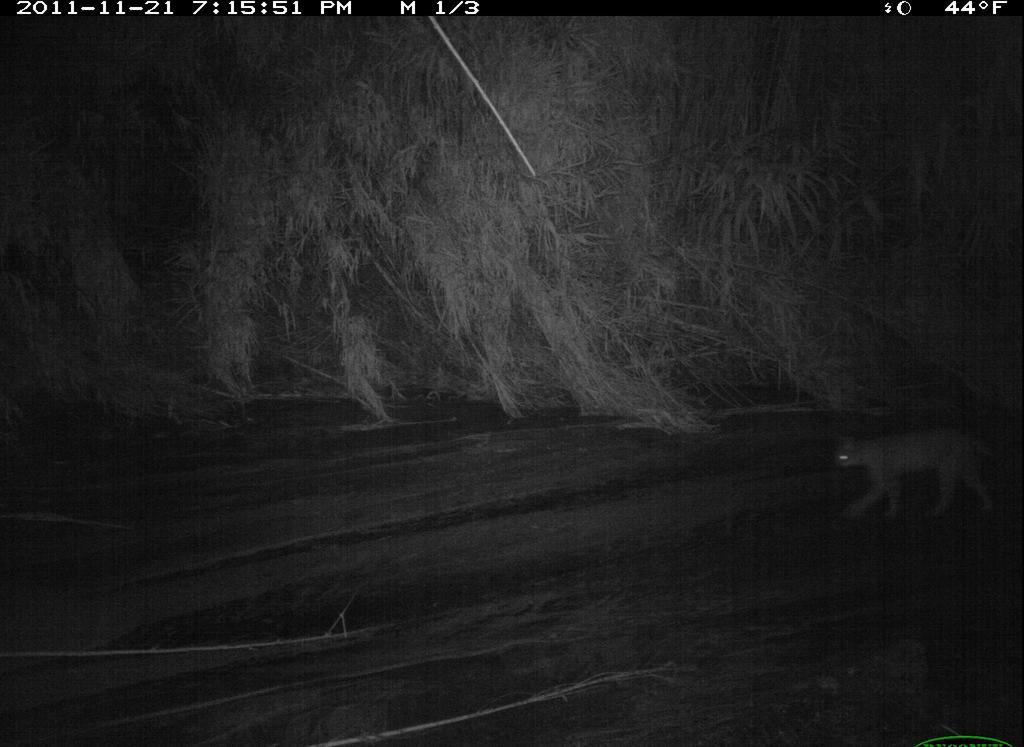bobcat: (815, 401, 1003, 547)
